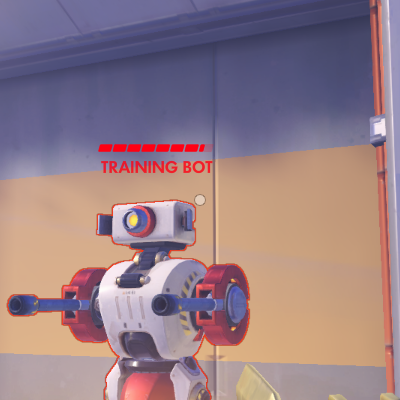hpbar: (98, 143, 213, 153)
